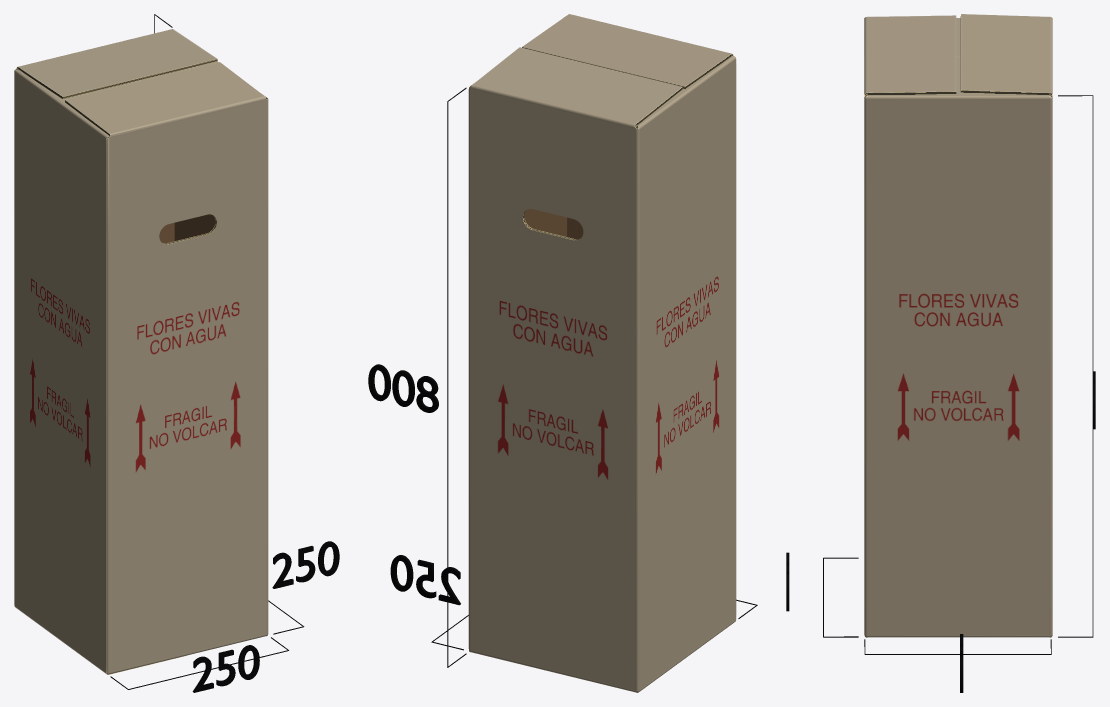
The model's file is 5DWEB.gltf.
The picture shows the model from 3 angles, left to right: view 1: azimuth 30°, elevation 25°; view 2: azimuth 150°, elevation 25°; view 3: azimuth 270°, elevation 25°; orthographic projection. The views are drawn at different scales.
Visible parts, largest first — view 1: TQ_ARD-node, Text.001, Text; view 2: TQ_ARD-node, Text.002, Text, Plane.004; view 3: TQ_ARD-node, Plane.004.
Boxes of the visible parts, bbox=[...] form: TQ_ARD-node: bbox=[14, 29, 268, 674]; Text.001: bbox=[192, 645, 259, 692]; Text: bbox=[272, 541, 339, 588]; TQ_ARD-node: bbox=[468, 14, 736, 692]; Text.002: bbox=[368, 364, 438, 412]; Text: bbox=[390, 555, 460, 605]; Plane.004: bbox=[447, 87, 466, 667]; TQ_ARD-node: bbox=[864, 14, 1052, 637]; Plane.004: bbox=[1058, 95, 1093, 637].
Size of the model in its own units: 0.4374 by 0.8118 by 0.4162.
4 materials, 2 textured.
